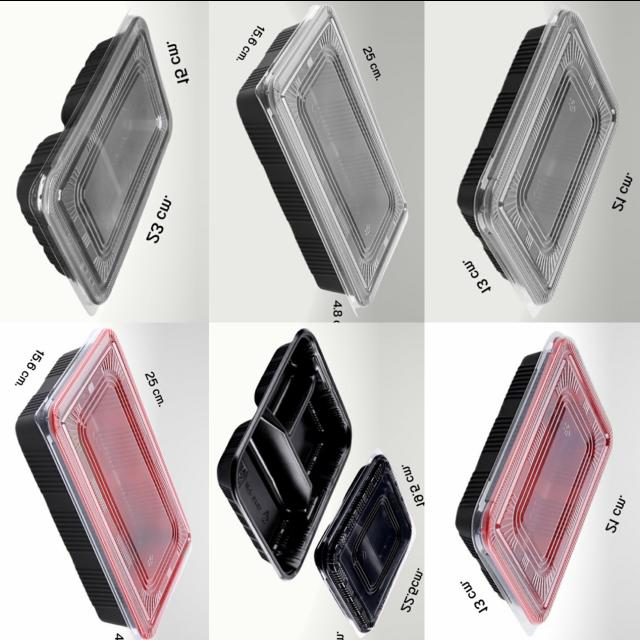plastik: (16, 328, 190, 637), (237, 4, 408, 307), (458, 5, 619, 315), (456, 331, 613, 632), (17, 15, 173, 314), (218, 328, 352, 579), (315, 453, 415, 636)
